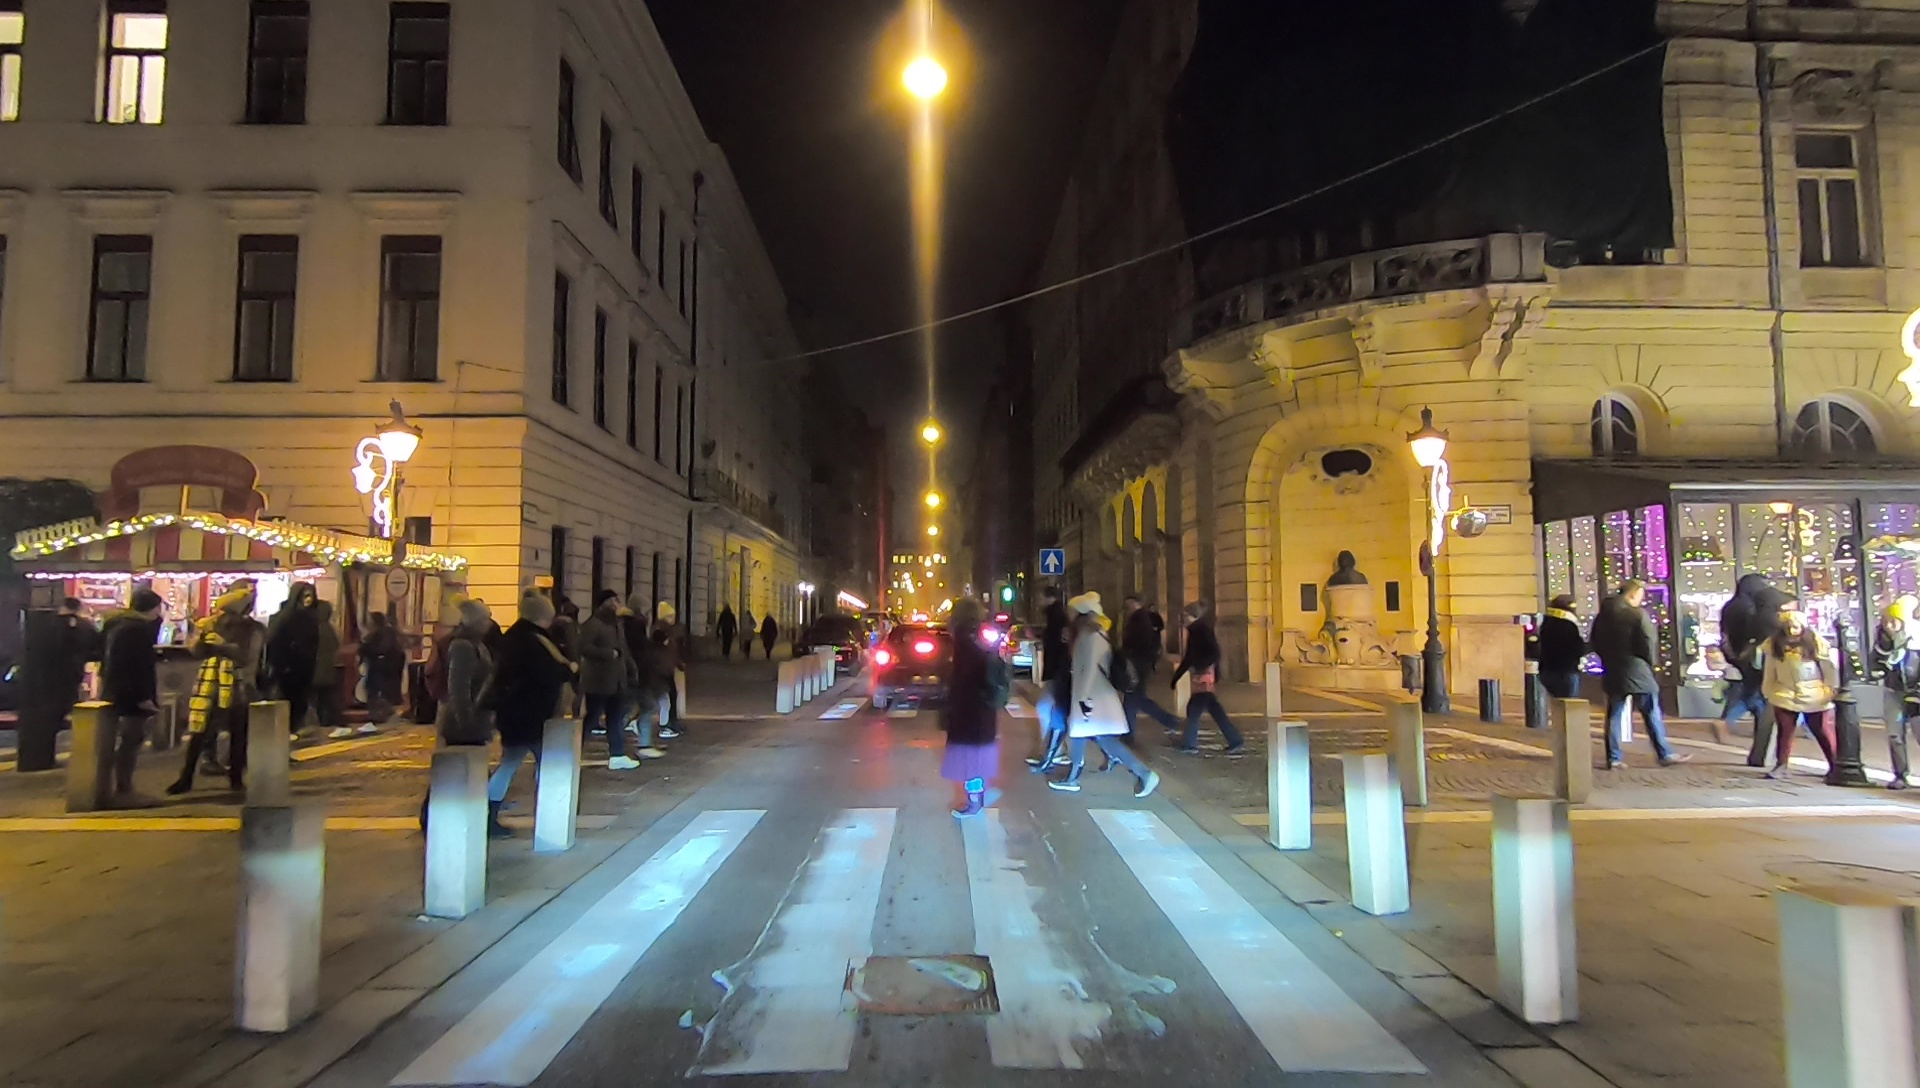person: (482, 589, 571, 856), (1060, 591, 1158, 810), (173, 593, 265, 802), (1712, 574, 1804, 776), (430, 606, 501, 861), (1595, 582, 1680, 776), (91, 584, 158, 808), (938, 597, 1001, 821), (1165, 600, 1245, 769), (1771, 615, 1849, 787), (19, 604, 93, 773), (576, 593, 634, 789), (1032, 587, 1088, 784), (269, 582, 328, 760), (1532, 589, 1584, 774), (1869, 600, 1920, 784), (1110, 591, 1169, 749), (645, 600, 689, 747), (360, 615, 414, 730), (712, 599, 738, 665), (762, 613, 778, 660), (739, 610, 756, 652)
